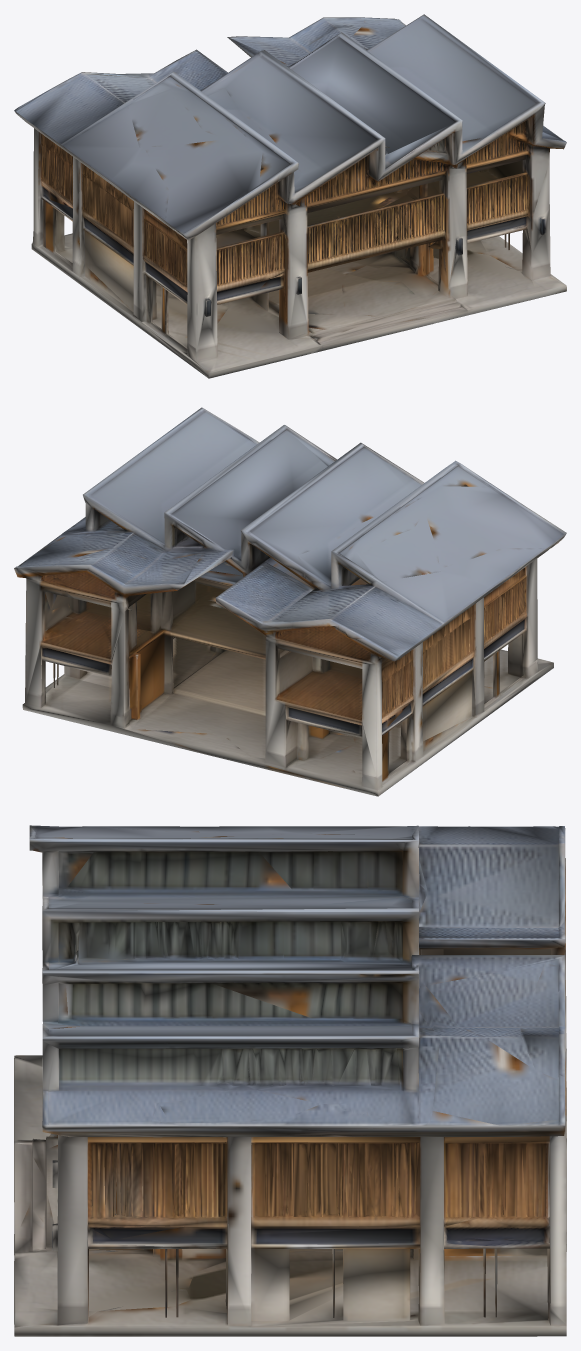
Rendered from passiona-bamboo-market-hall.glb.
The picture shows the model from 3 angles, top to bottom: view 1: azimuth 30°, elevation 25°; view 2: azimuth 150°, elevation 25°; view 3: azimuth 270°, elevation 25°; orthographic projection. The views are drawn at different scales.
Visible parts, largest first — view 1: node_0; view 2: node_0; view 3: node_0.
Boxes of the visible parts, x1=… form: node_0: x1=14, y1=14, x2=566, y2=378; node_0: x1=14, y1=407, x2=566, y2=796; node_0: x1=14, y1=825, x2=566, y2=1336.
Bounding box in the file's own units: 0.9055 × 0.4262 × 0.7208.
1 material, 1 textured.
